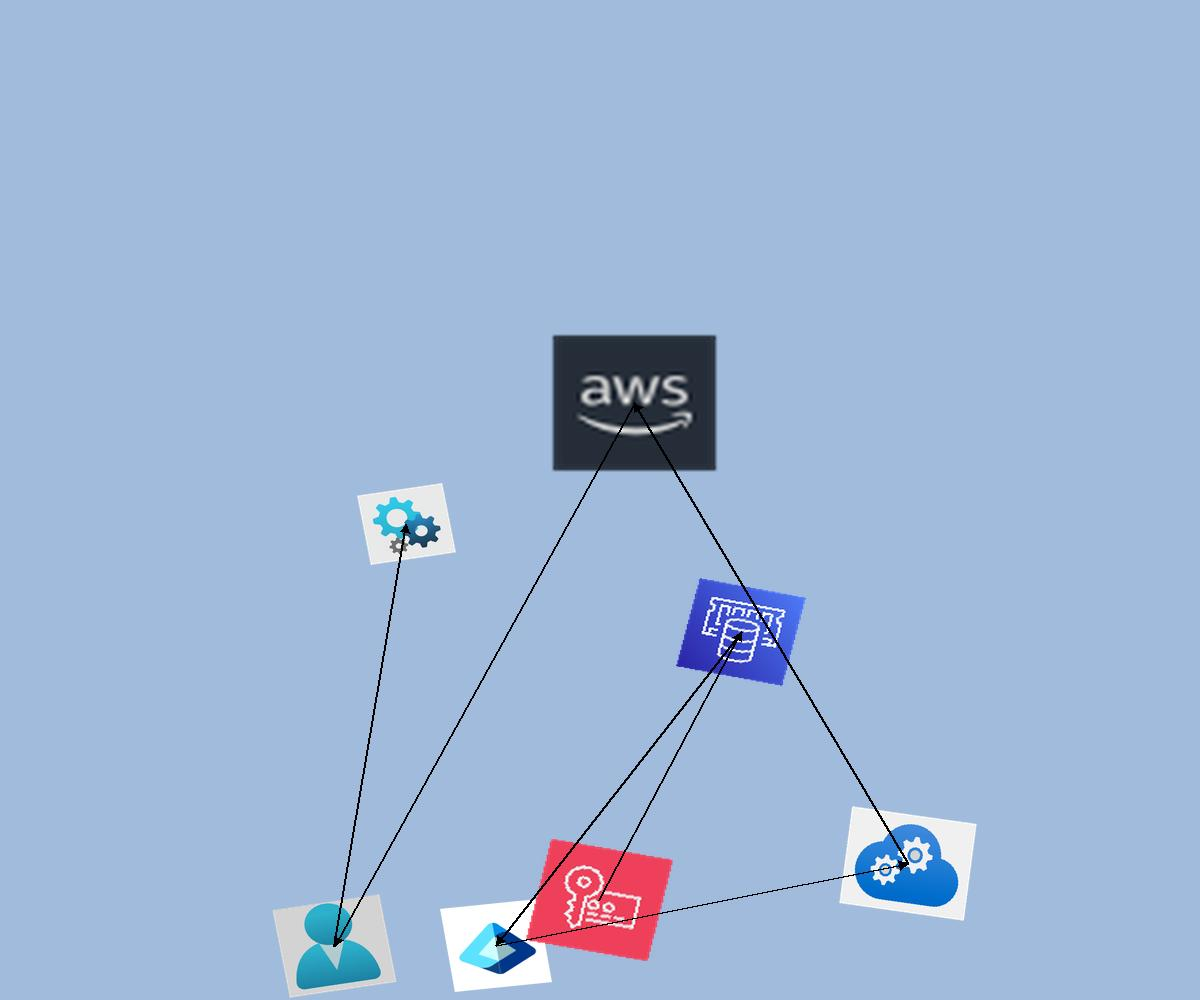AWS-Cloud-logo: (549, 332, 720, 474)
AWS-ElastiCache: (676, 578, 806, 686)
AWS-Key-Management-Service: (525, 838, 674, 962)
Azure_api: (357, 483, 456, 565)
Azure_cloud_services: (839, 806, 977, 921)
Azure_microsoft_entra: (440, 899, 552, 992)
Azure_users: (272, 894, 397, 998)
